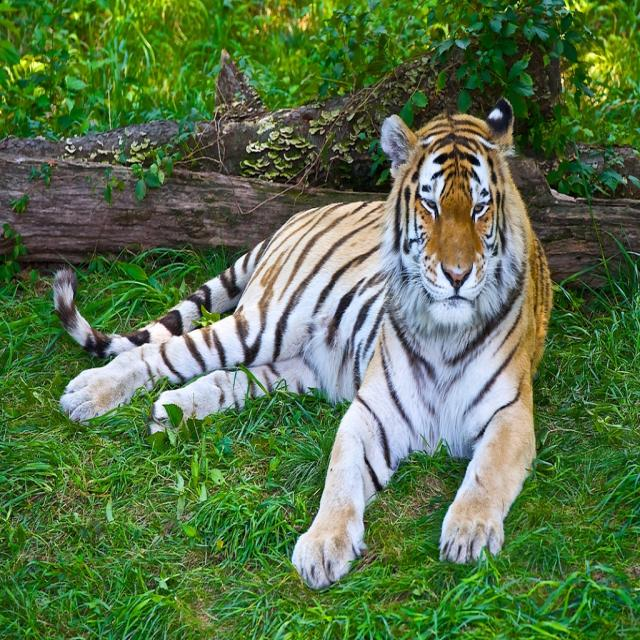Tiger: (51, 93, 555, 589)
